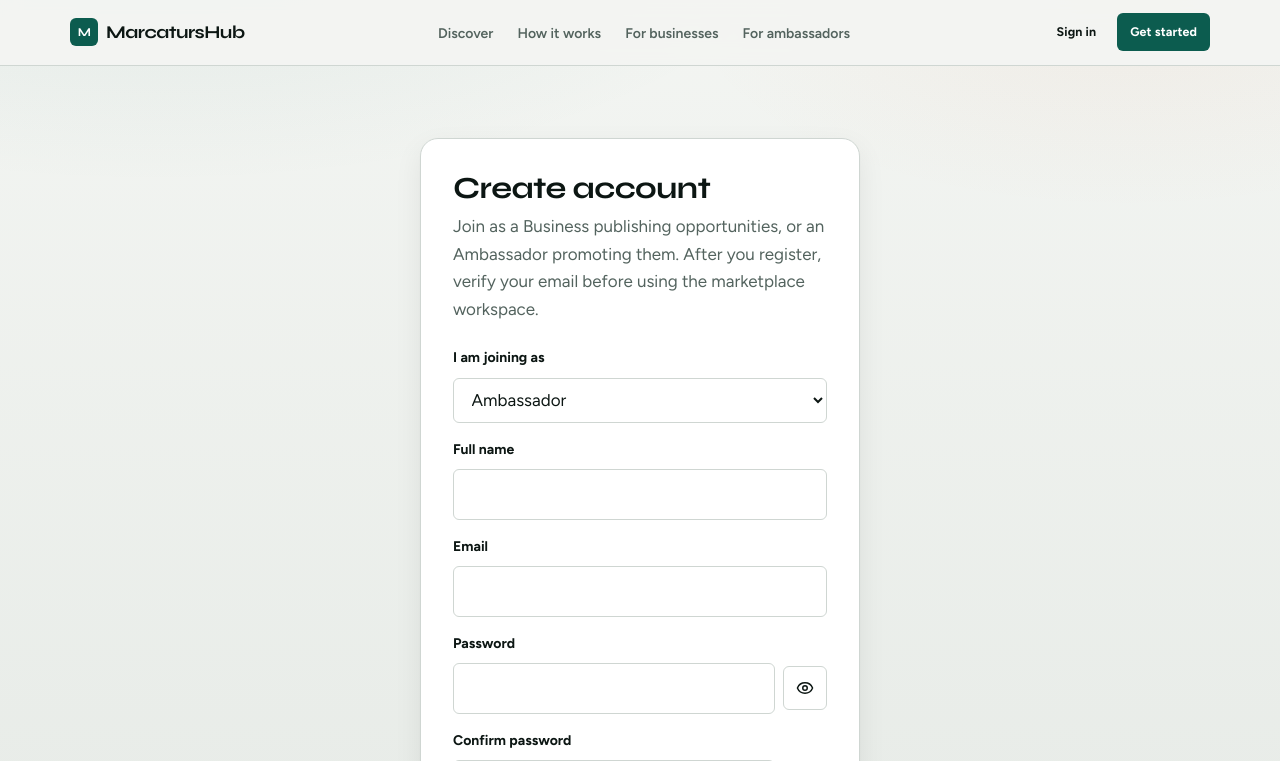
MH-OPS-055 registration field-level API validation UX › Test A — shows the email server validation message on the email field
Select "Ambassador" in the dropdown labelled "I am joining as": (640, 400) 453,378 -> 827,423
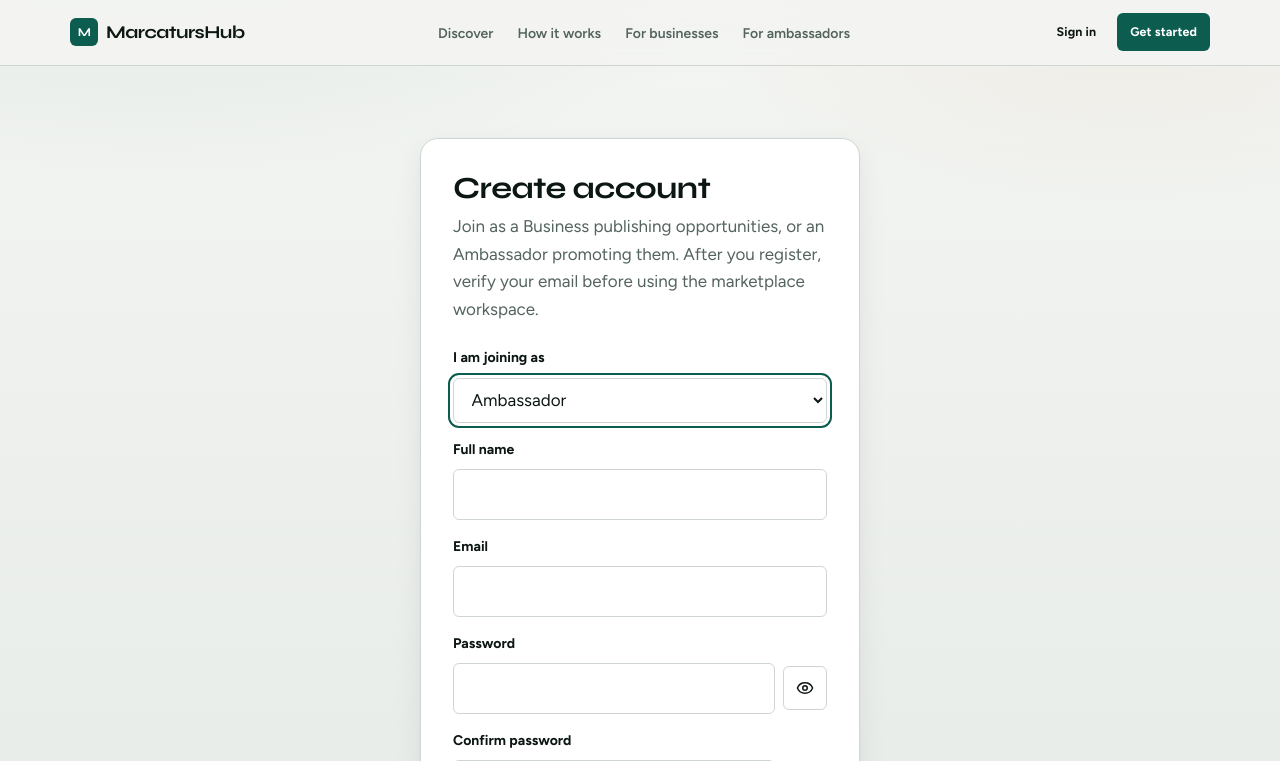
In the field labelled "Full name": (640, 494) 453,469 -> 827,520, type "New Participant"
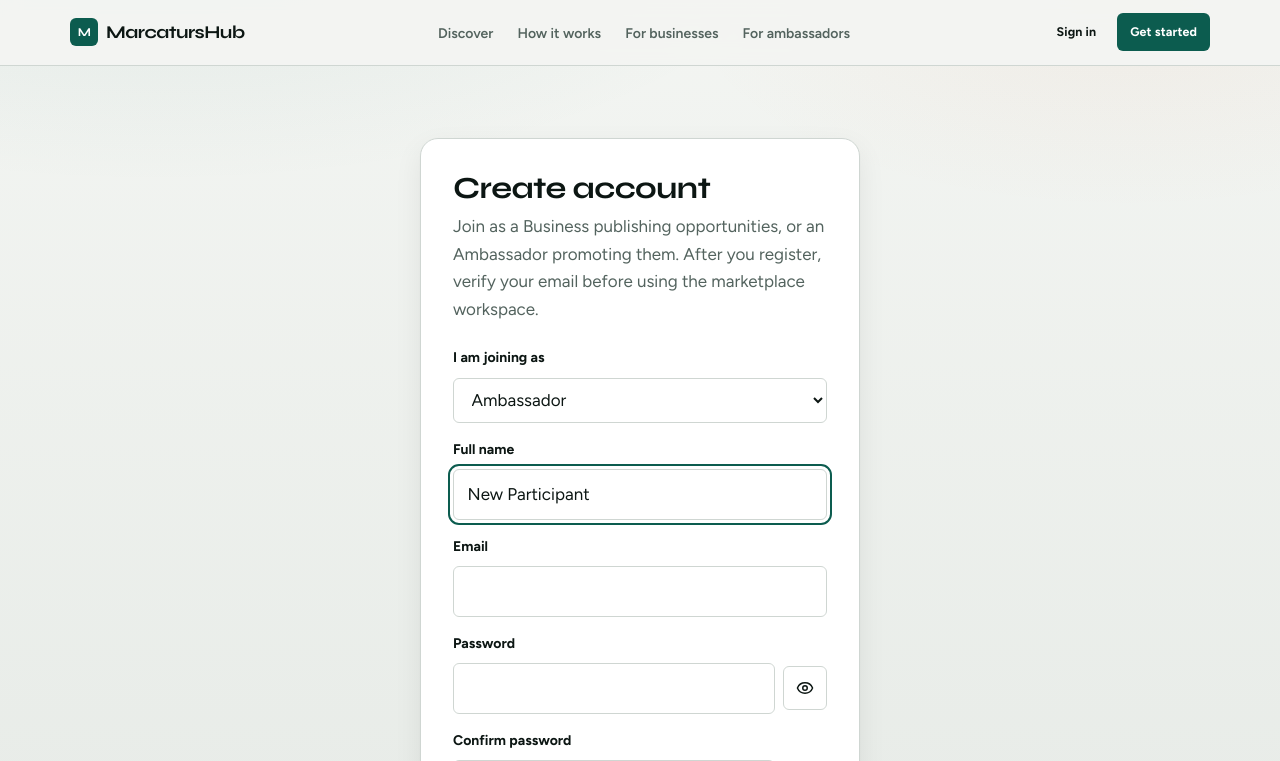
In the field labelled "Email": (640, 591) 453,566 -> 827,616, type "new@example.com"
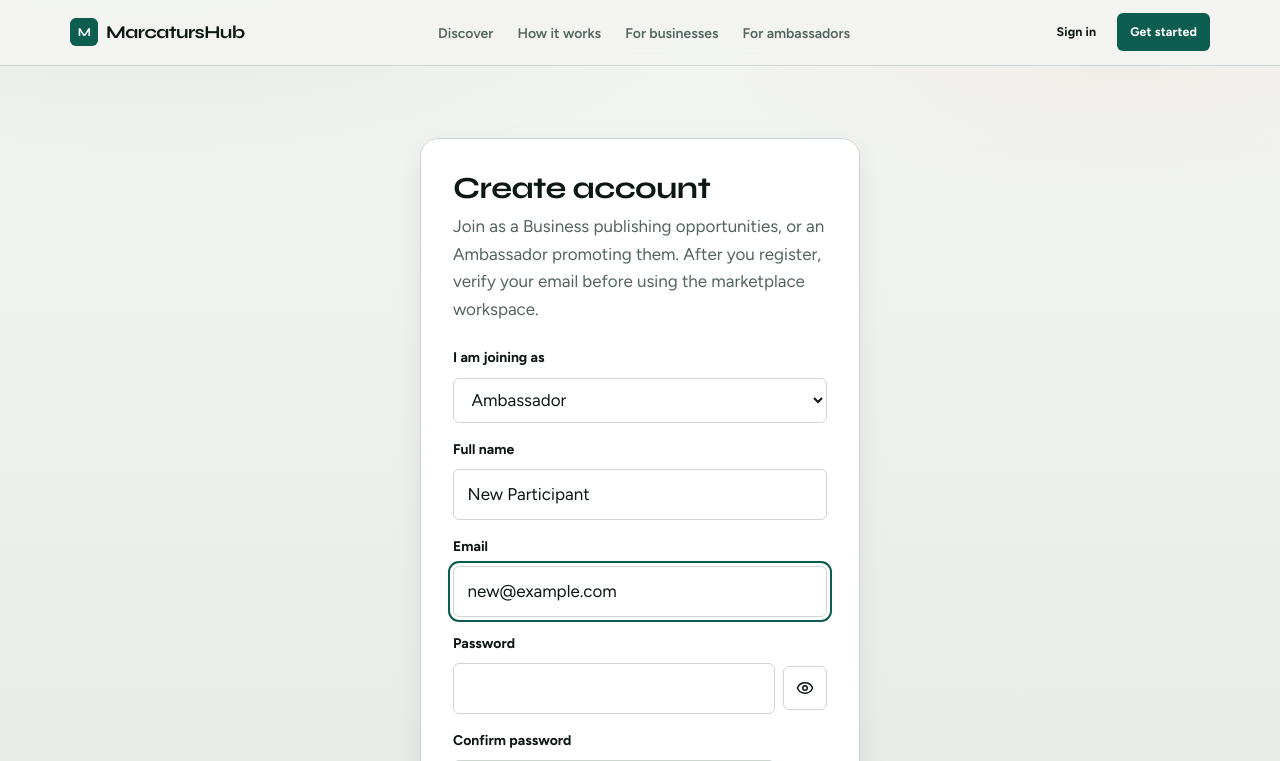
In the password field labelled "Password": (614, 688) 453,663 -> 775,714, type "DemoPass123!"
(page scrolled)
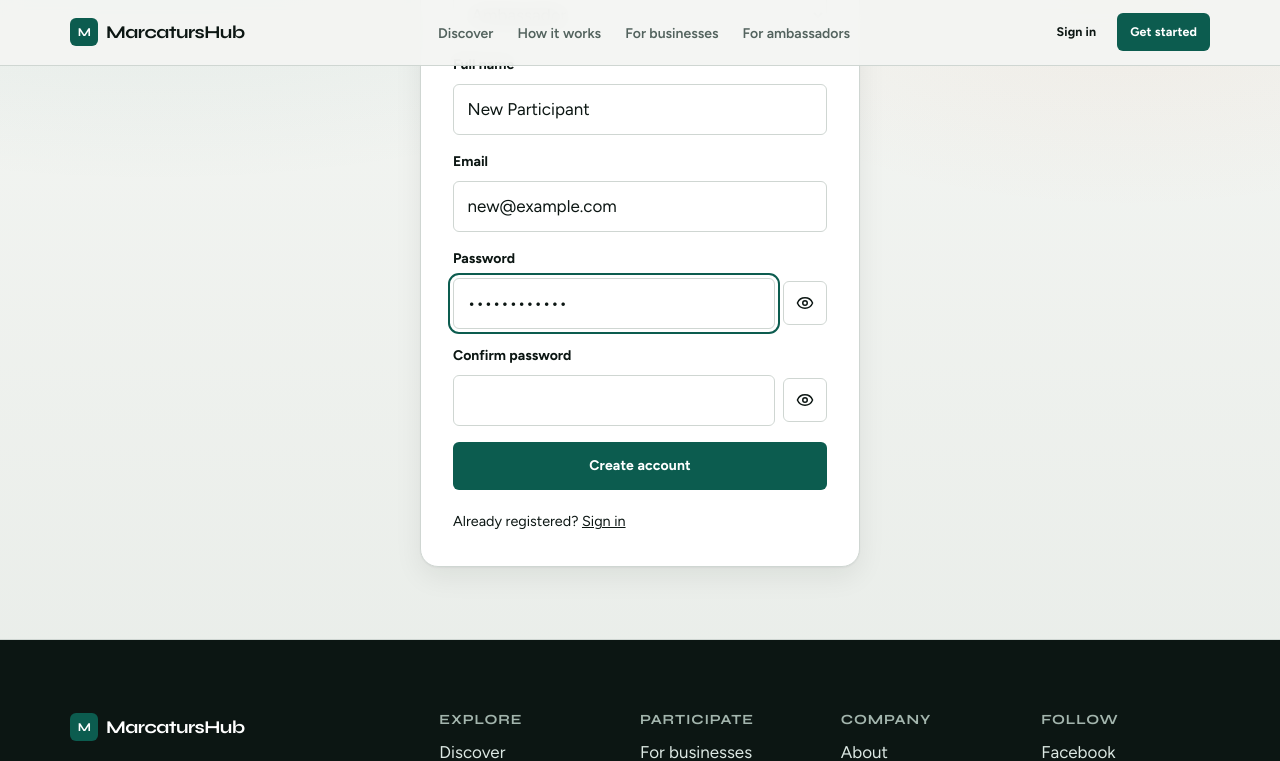
In the password field labelled "Confirm password": (614, 400) 453,375 -> 775,426, type "DemoPass123!"
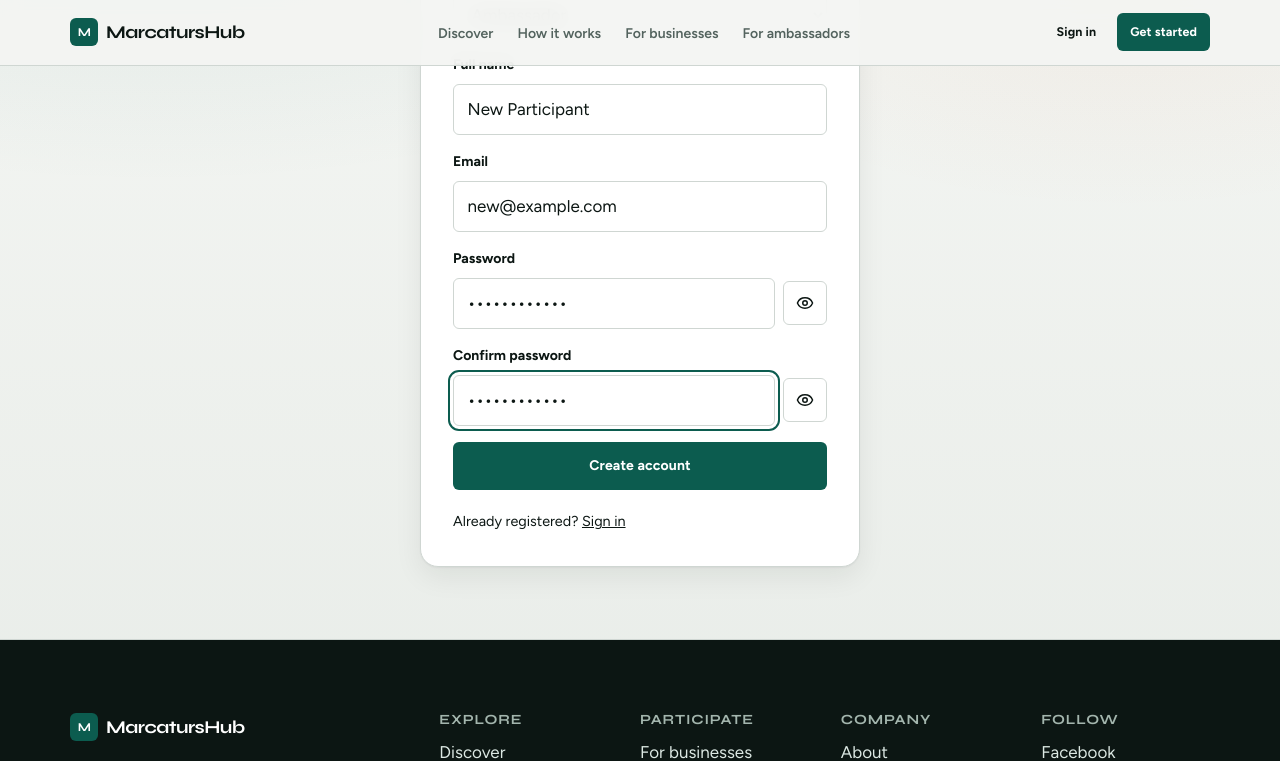
Click the button "Create account": click(640, 466) 453,442 -> 827,490
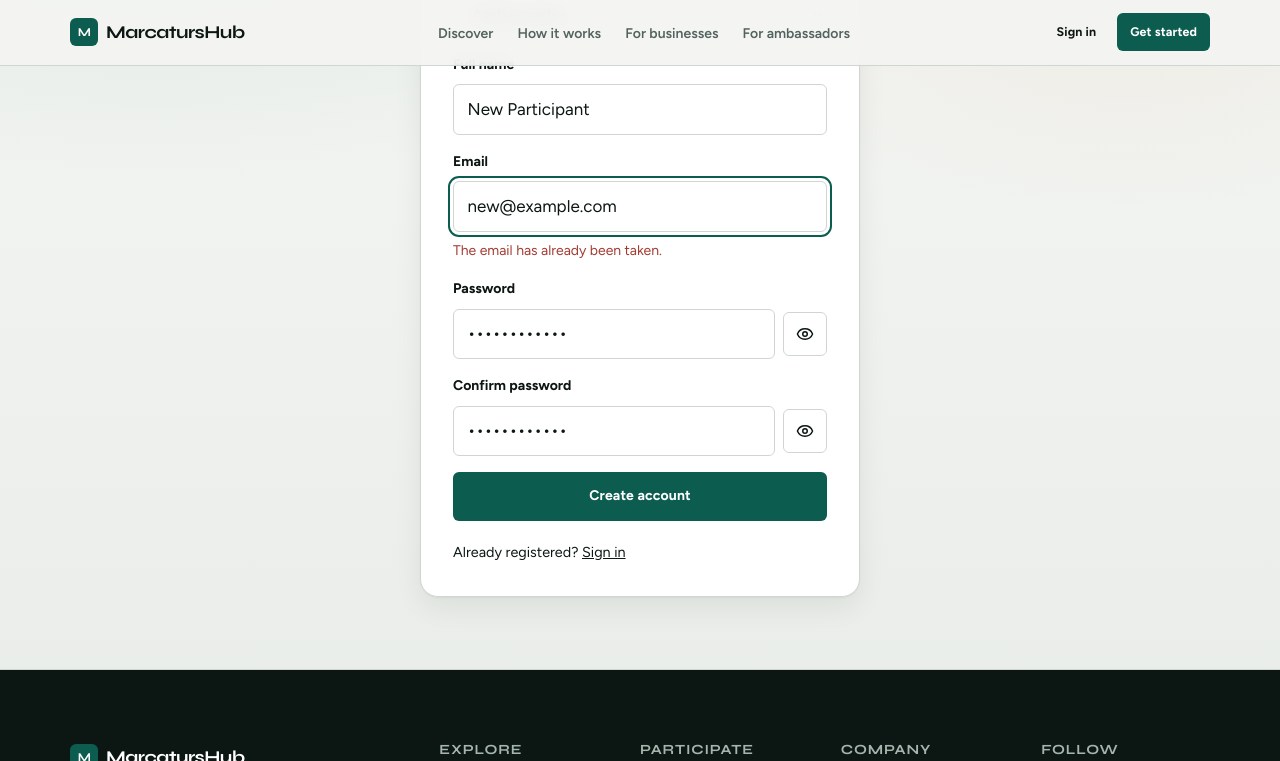
Expected: the text "The email has already been taken." is shown, 453,242 -> 662,258
